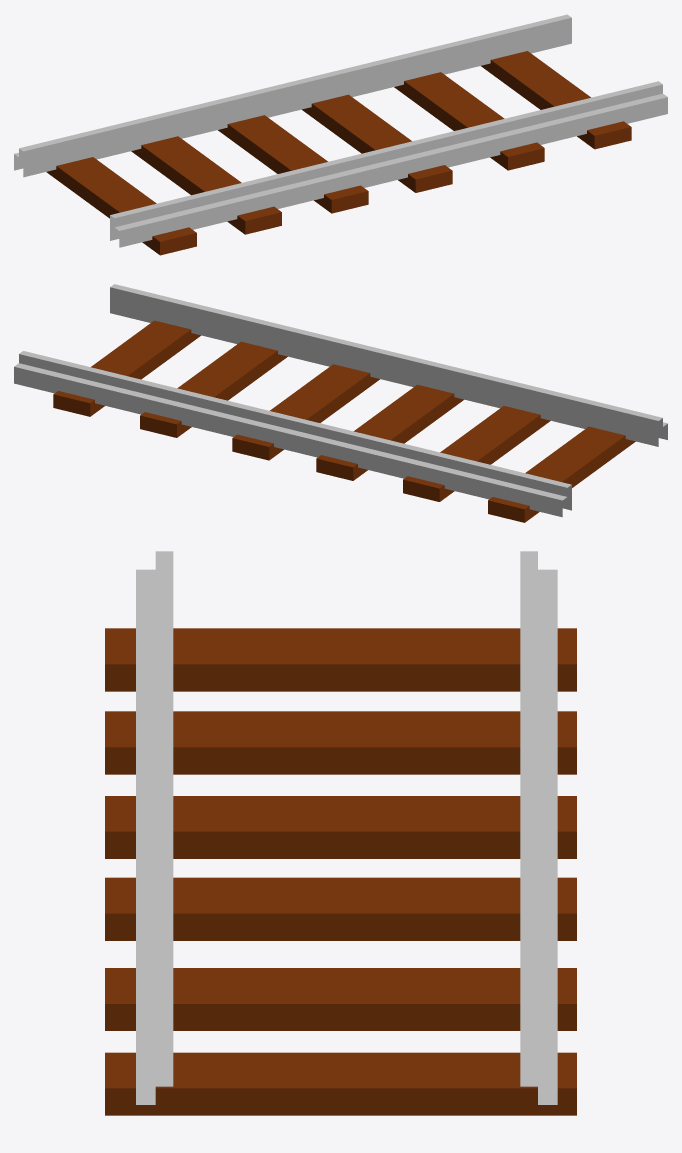
The model's file is Gerade_Schiene.fbx.
3 renders of one model, top to bottom at view 1: azimuth 30°, elevation 25°; view 2: azimuth 150°, elevation 25°; view 3: azimuth 270°, elevation 25°, orthographic. The views are drawn at different scales.
Visible parts, largest first — view 1: Gerade_Schiene; view 2: Gerade_Schiene; view 3: Gerade_Schiene.
Boxes of the visible parts, x1,y1,x2,y2 form: Gerade_Schiene: (14, 14, 667, 255); Gerade_Schiene: (14, 284, 667, 522); Gerade_Schiene: (105, 551, 576, 1115).
Size of the model in its own units: 1 by 0.0627 by 0.3725.
